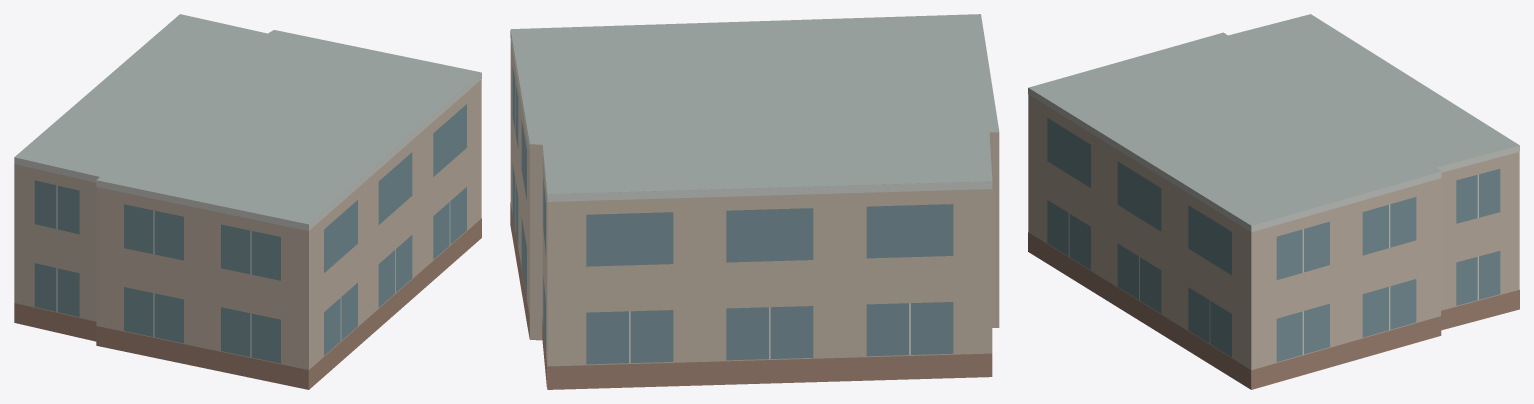
File: survey-upis-32624906.glb
3 renders of one model, left to right at view 1: azimuth 30°, elevation 25°; view 2: azimuth 150°, elevation 25°; view 3: azimuth 270°, elevation 25°, orthographic. The views are drawn at different scales.
Visible parts, largest first — view 1: survey-upis-32624906.tmp; view 2: survey-upis-32624906.tmp; view 3: survey-upis-32624906.tmp.
Part boxes in pixels (box(x1,y1,x2,y2)): survey-upis-32624906.tmp: box(14, 14, 481, 389); survey-upis-32624906.tmp: box(510, 14, 999, 389); survey-upis-32624906.tmp: box(1028, 14, 1519, 389).
Size of the model in its own units: 16.89 by 6.1 by 16.57.
